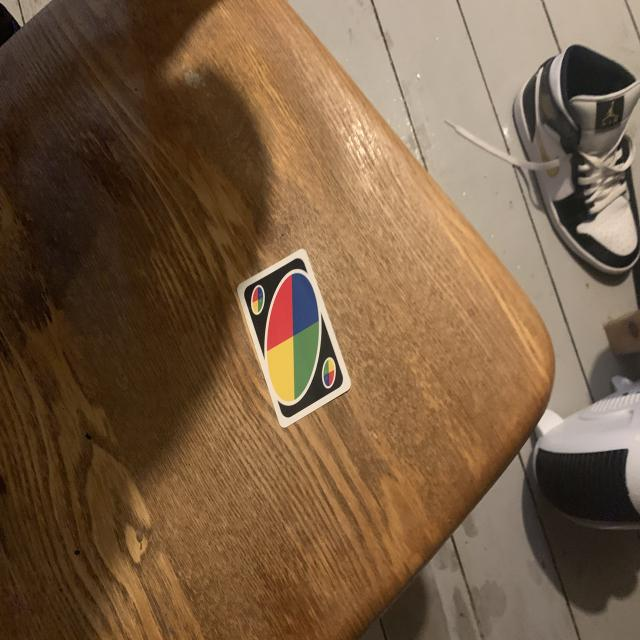lcolor-40: (248, 284, 268, 318)
